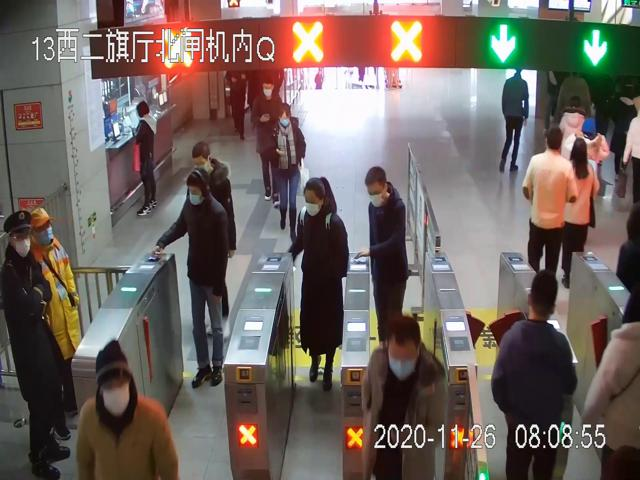person: (2, 209, 70, 480), (155, 170, 228, 388), (291, 176, 347, 391), (360, 167, 410, 336), (524, 128, 577, 283), (271, 102, 307, 244), (251, 77, 282, 202), (131, 100, 158, 216)
